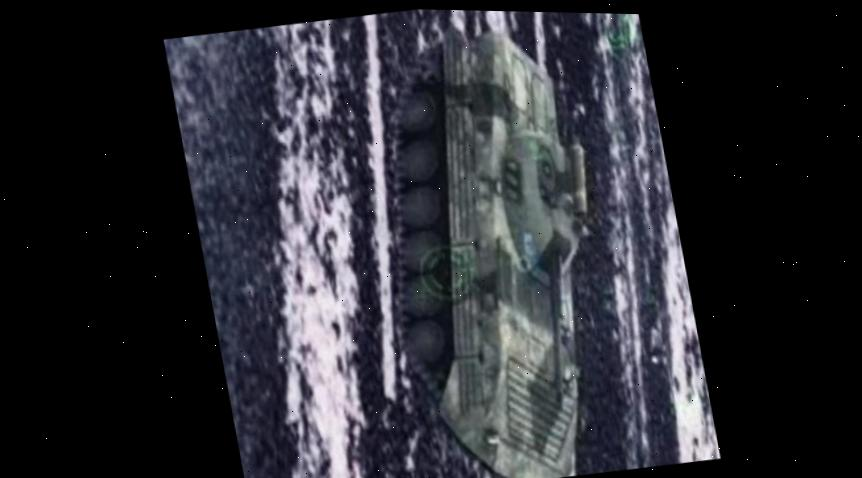armored_car: (343, 8, 645, 478)
